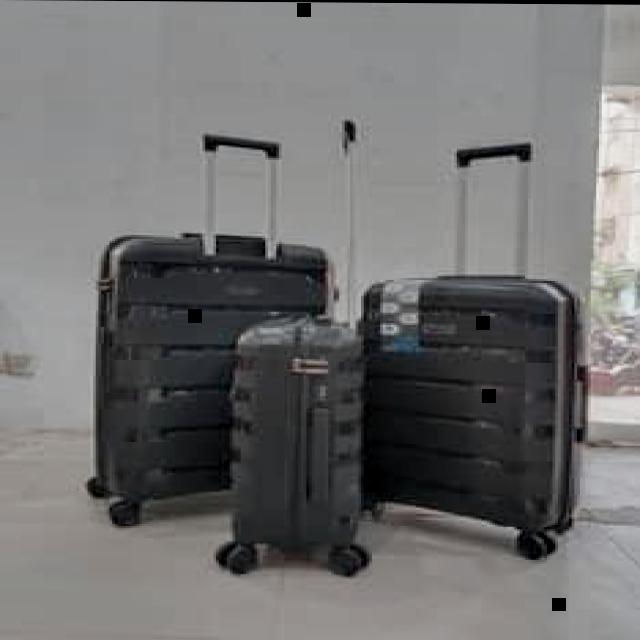luggage: (88, 226, 344, 536), (356, 265, 604, 561), (218, 302, 376, 575)
